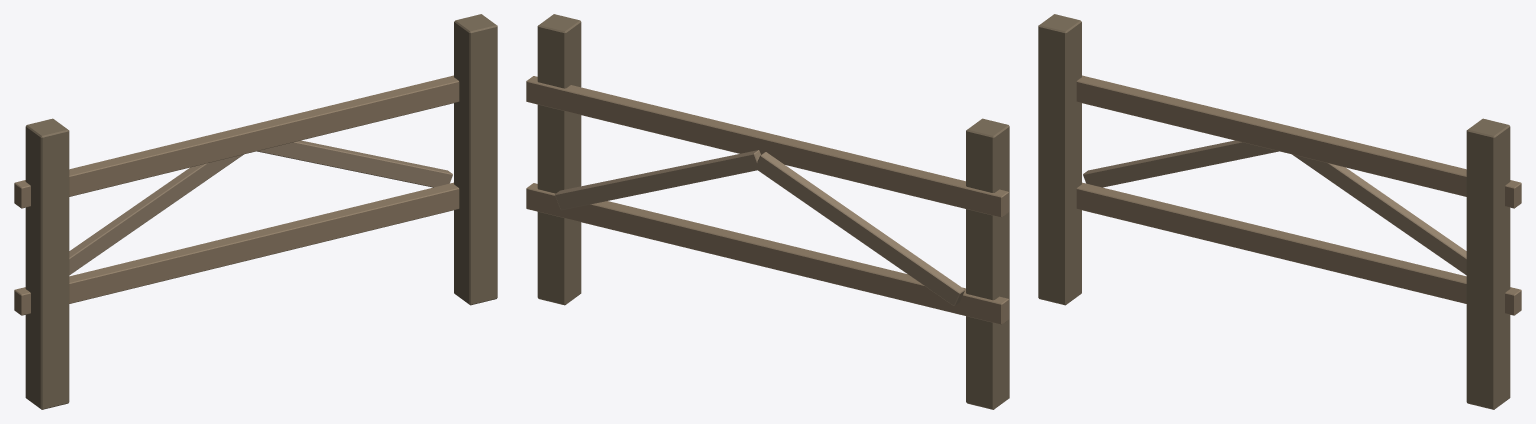
Rendered from env_fence_rail_intact_b_v04_chevron_brace.glb.
3 renders of one model, left to right at view 1: azimuth 30°, elevation 25°; view 2: azimuth 150°, elevation 25°; view 3: azimuth 330°, elevation 25°, orthographic.
Visible parts, largest first — view 1: material_2, material_0, material_1; view 2: material_0, material_2, material_1; view 3: material_2, material_0, material_1.
Boxes of the visible parts, left/top/right/bottom form: material_2: left=25, top=14, right=497, bottom=409; material_0: left=14, top=75, right=459, bottom=315; material_1: left=69, top=140, right=452, bottom=275; material_0: left=526, top=76, right=1008, bottom=324; material_2: left=537, top=14, right=1009, bottom=409; material_1: left=555, top=150, right=964, bottom=305; material_2: left=1038, top=14, right=1510, bottom=409; material_0: left=1076, top=75, right=1521, bottom=315; material_1: left=1083, top=140, right=1466, bottom=275.
Bounding box in the file's own units: 2 × 1.1 × 0.18.
